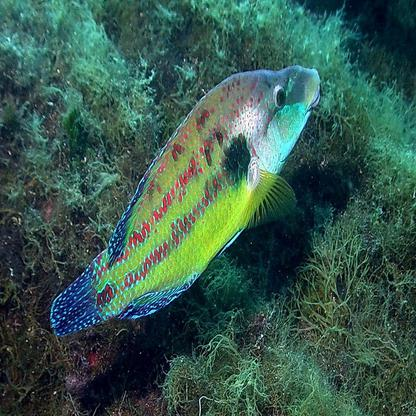fish: (49, 64, 321, 338)
